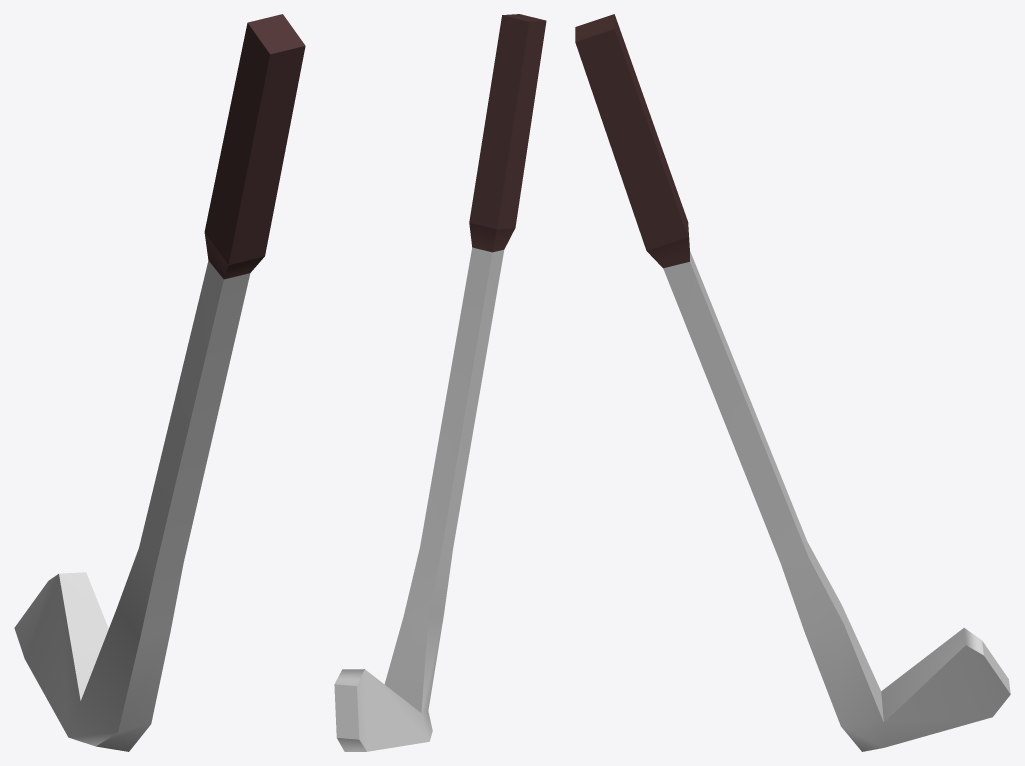
File: GolfClub 1.fbx
The picture shows the model from 3 angles, left to right: view 1: azimuth 30°, elevation 25°; view 2: azimuth 150°, elevation 25°; view 3: azimuth 270°, elevation 25°; orthographic projection. The views are drawn at different scales.
Visible parts, largest first — view 1: pCube1; view 2: pCube1; view 3: pCube1.
Part boxes in pixels (x1=…): pCube1: x1=14, y1=14, x2=305, y2=751; pCube1: x1=334, y1=14, x2=546, y2=751; pCube1: x1=575, y1=14, x2=1010, y2=751.
Size of the model in its own units: 1.14 by 13.56 by 7.36.
